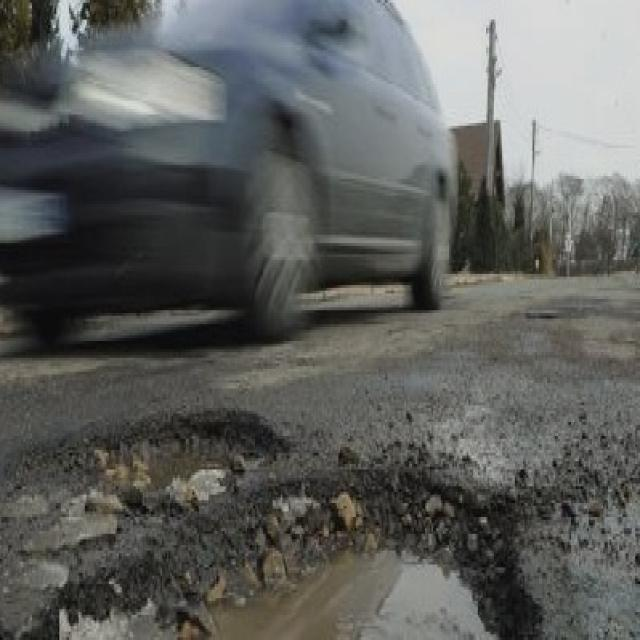road-pothole: (10, 478, 543, 637), (32, 408, 292, 565)
